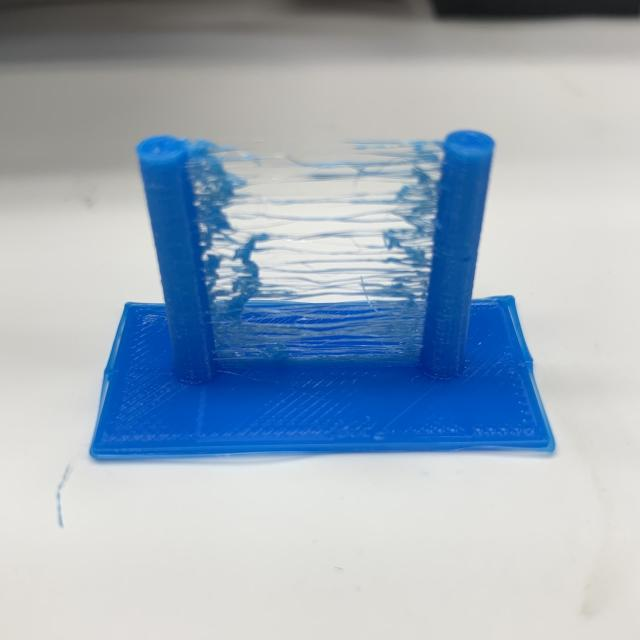Stringing: (186, 139, 440, 366)
